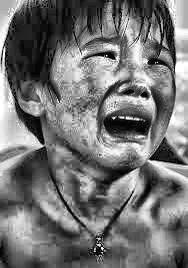sad: (41, 20, 171, 168)
